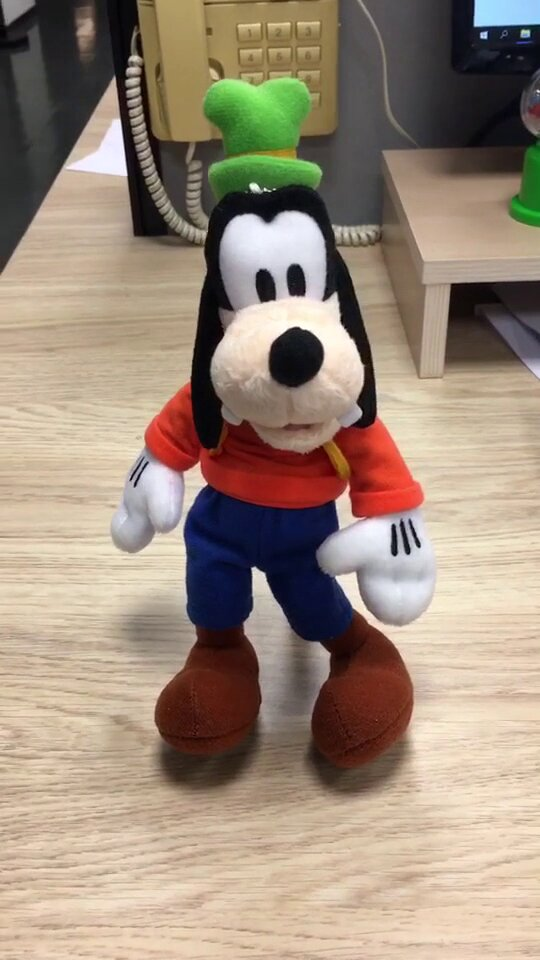goofy: (110, 73, 444, 773)
